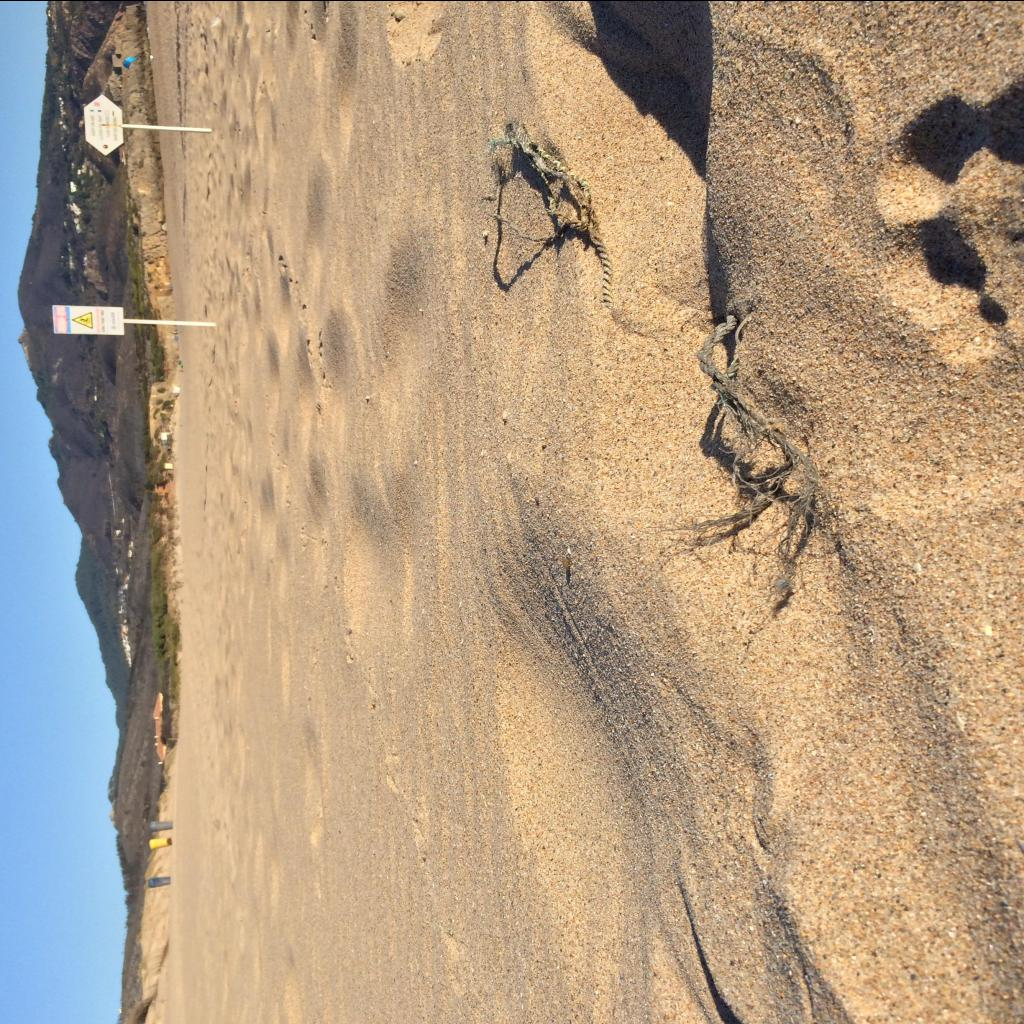Rope - strings: (686, 312, 818, 590), (478, 120, 614, 310)
